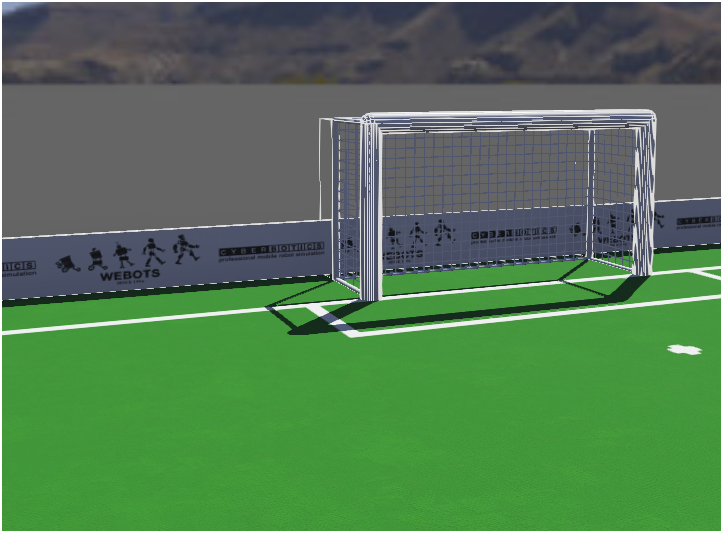Goal: (286, 89, 677, 367)
